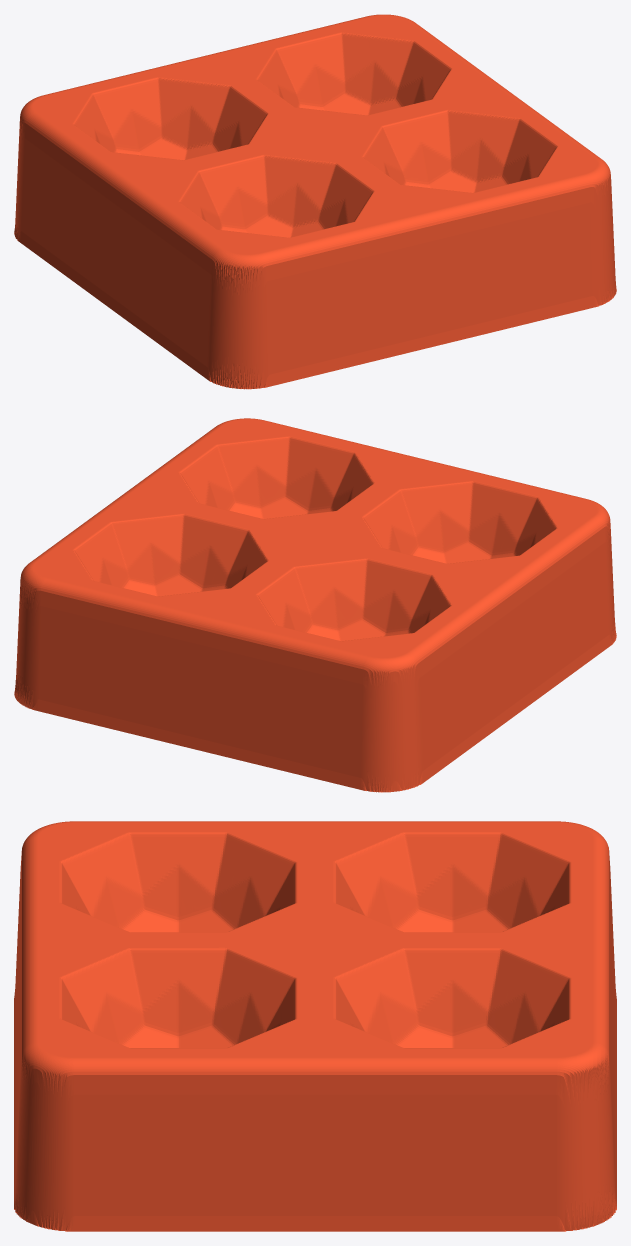
The model's file is mold.glb.
The picture shows the model from 3 angles, top to bottom: view 1: azimuth 30°, elevation 25°; view 2: azimuth 150°, elevation 25°; view 3: azimuth 270°, elevation 25°; orthographic projection. The views are drawn at different scales.
Visible parts, largest first — view 1: geometry_0; view 2: geometry_0; view 3: geometry_0.
Part boxes in pixels (x1,y1,x2,y2): geometry_0: (14,14,616,389); geometry_0: (14,418,616,792); geometry_0: (14,821,616,1231).
Size of the model in its own units: 0.0906 by 0.0272 by 0.0906.
